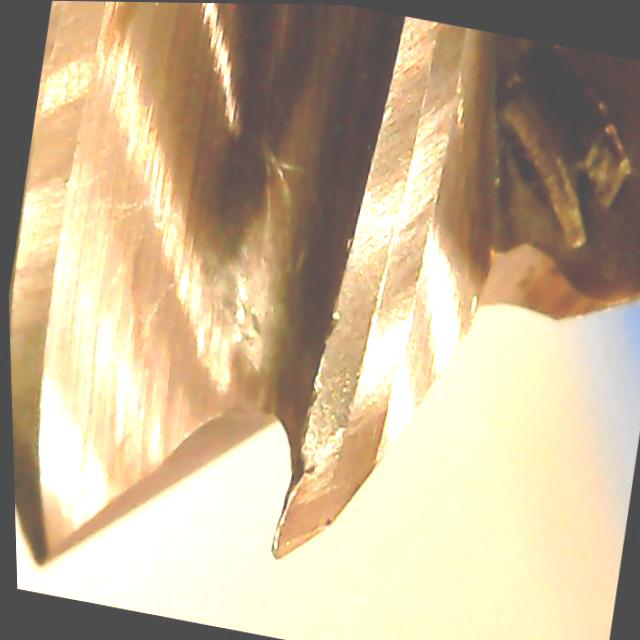Tool-wear-class-1: (239, 270, 434, 587)
